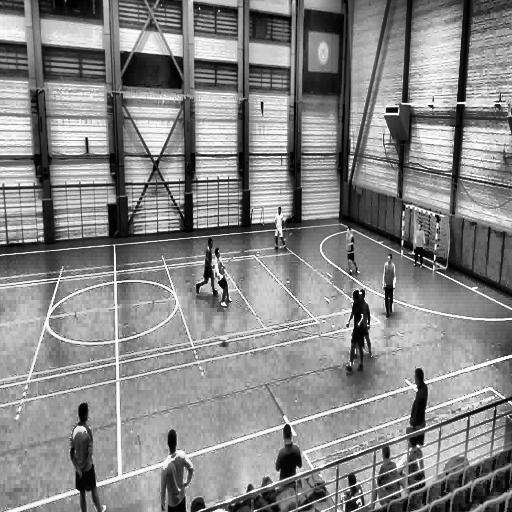ball: (220, 335, 228, 346)
player: (71, 404, 108, 512), (160, 429, 191, 512), (346, 290, 366, 371), (352, 287, 372, 360), (197, 238, 218, 296), (215, 246, 232, 308), (382, 255, 396, 318), (345, 226, 358, 276), (274, 207, 286, 251), (413, 223, 425, 267)
